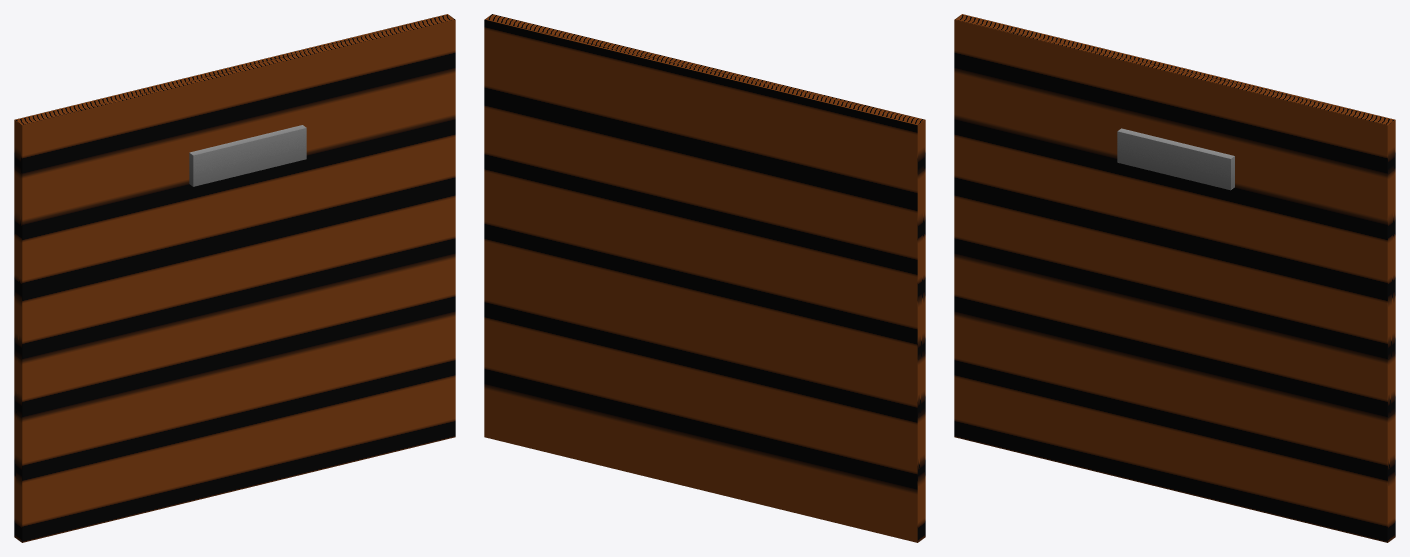
The model's file is Porton.obj.
3 views of the same model, side by side, from view 1: azimuth 30°, elevation 25°; view 2: azimuth 150°, elevation 25°; view 3: azimuth 330°, elevation 25° (orthographic).
Parts seen in each view (by area): view 1: pCube18; view 2: pCube18; view 3: pCube18.
Part boxes in pixels (left/top/right/bottom): pCube18: left=14, top=14, right=455, bottom=542; pCube18: left=484, top=14, right=925, bottom=542; pCube18: left=954, top=14, right=1395, bottom=542.
Size of the model in its own units: 3.86 by 3.56 by 0.183.
Materials: 2 (2 with a texture image).
